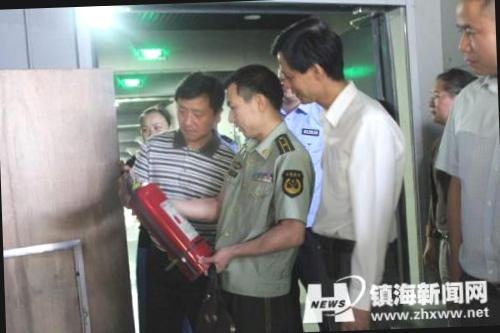no_helmet: (268, 16, 351, 106), (222, 61, 284, 143), (194, 66, 258, 141), (169, 69, 228, 143), (453, 0, 496, 79), (426, 66, 470, 123), (137, 103, 170, 142)
